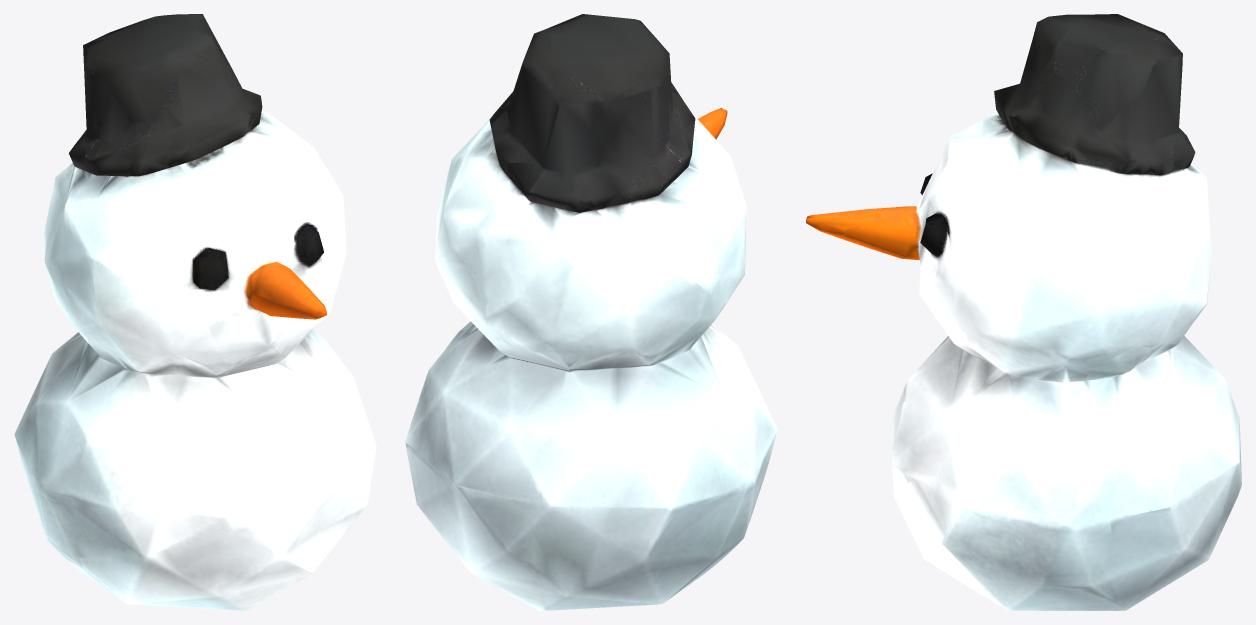
The model's file is bonhomme-neige.glb.
The picture shows the model from 3 angles, left to right: view 1: azimuth 30°, elevation 25°; view 2: azimuth 150°, elevation 25°; view 3: azimuth 270°, elevation 25°; orthographic projection. The views are drawn at different scales.
Parts seen in each view (by area): view 1: mesh_node; view 2: mesh_node; view 3: mesh_node.
Boxes of the visible parts, x1,y1,x2,y2 form: mesh_node: [14, 14, 376, 610]; mesh_node: [405, 14, 777, 610]; mesh_node: [806, 14, 1241, 610].
Bounding box in the file's own units: 1.11 × 1.9 × 1.34.
Materials: 1 (1 with a texture image).
